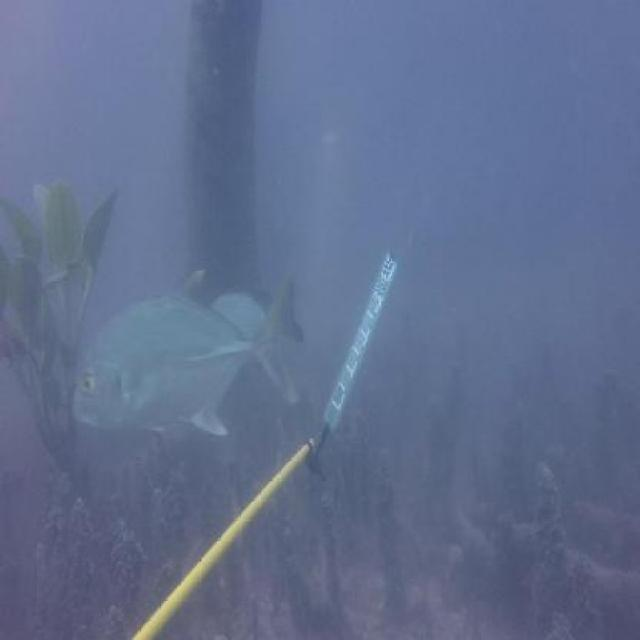Caranx: (70, 262, 310, 440)
acanthopagrus_palmaris: (209, 272, 308, 352)
